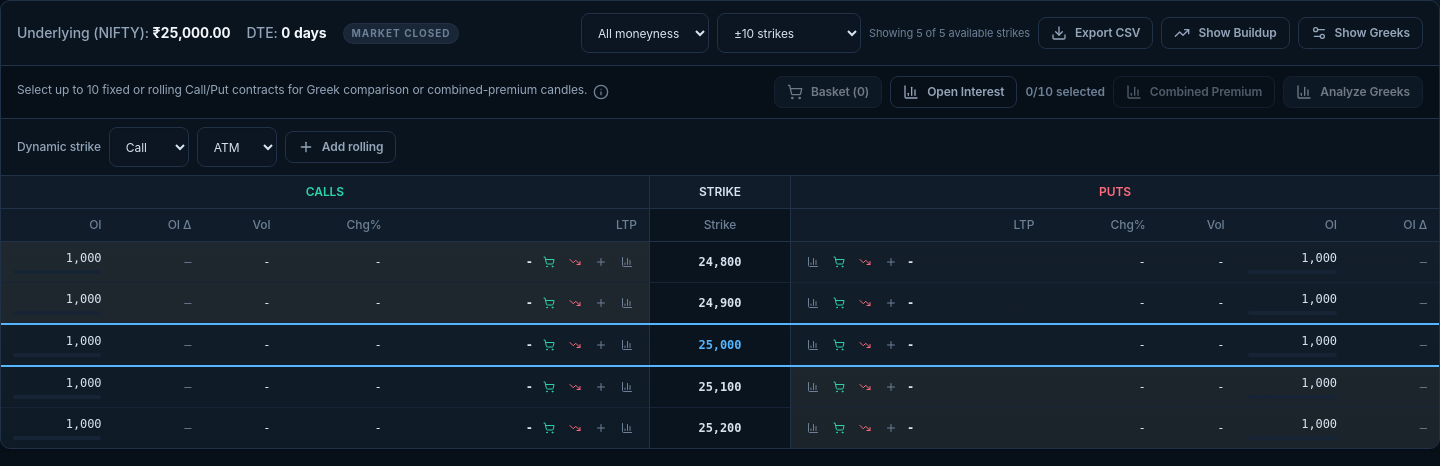
Test case: OptionChain — rendering strikes › filters to ITM-only strikes via the moneyness select
Select "ITM calls" in the dropdown named "Filter option chain by moneyness": [645, 33] box [581,13,709,53]
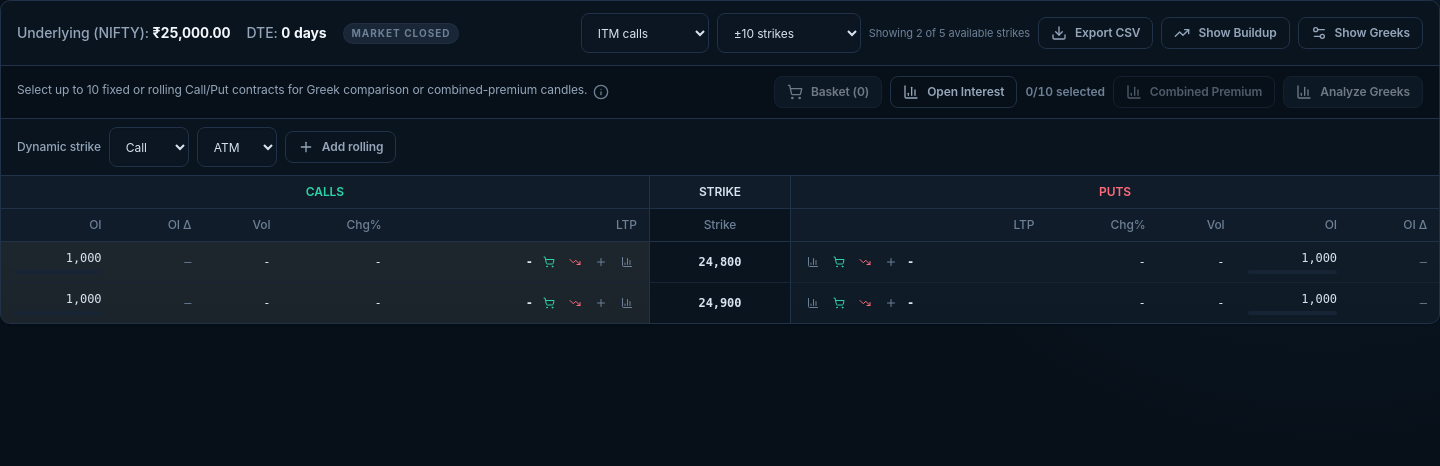
Now the text "Showing 2 of 5 available strikes" is shown, box [869,25,1030,41]
